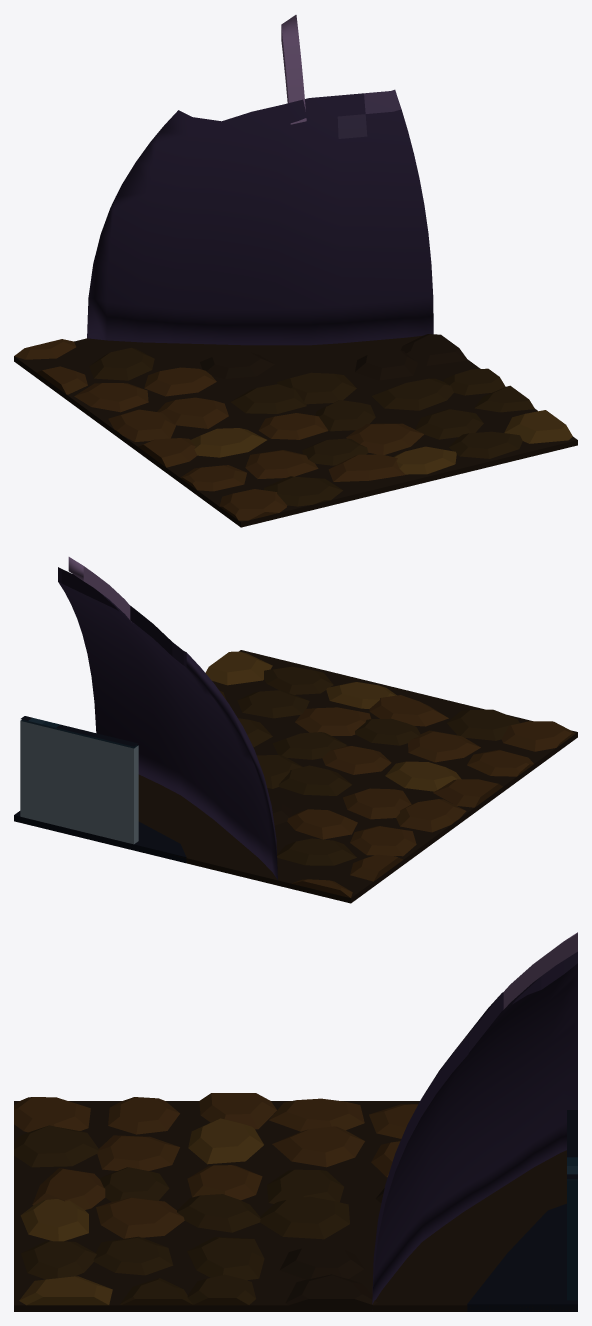
The model's file is newshr-81.glb.
3 renders of one model, top to bottom at view 1: azimuth 30°, elevation 25°; view 2: azimuth 150°, elevation 25°; view 3: azimuth 270°, elevation 25°, orthographic. The views are drawn at different scales.
Parts seen in each view (by area): view 1: newshr-81; view 2: newshr-81; view 3: newshr-81.
Part boxes in pixels (x1,y1,x2,y2): newshr-81: (14,15,577,527); newshr-81: (14,557,577,903); newshr-81: (14,932,577,1311).
Size of the model in its own units: 2 by 1.58 by 2.33.
